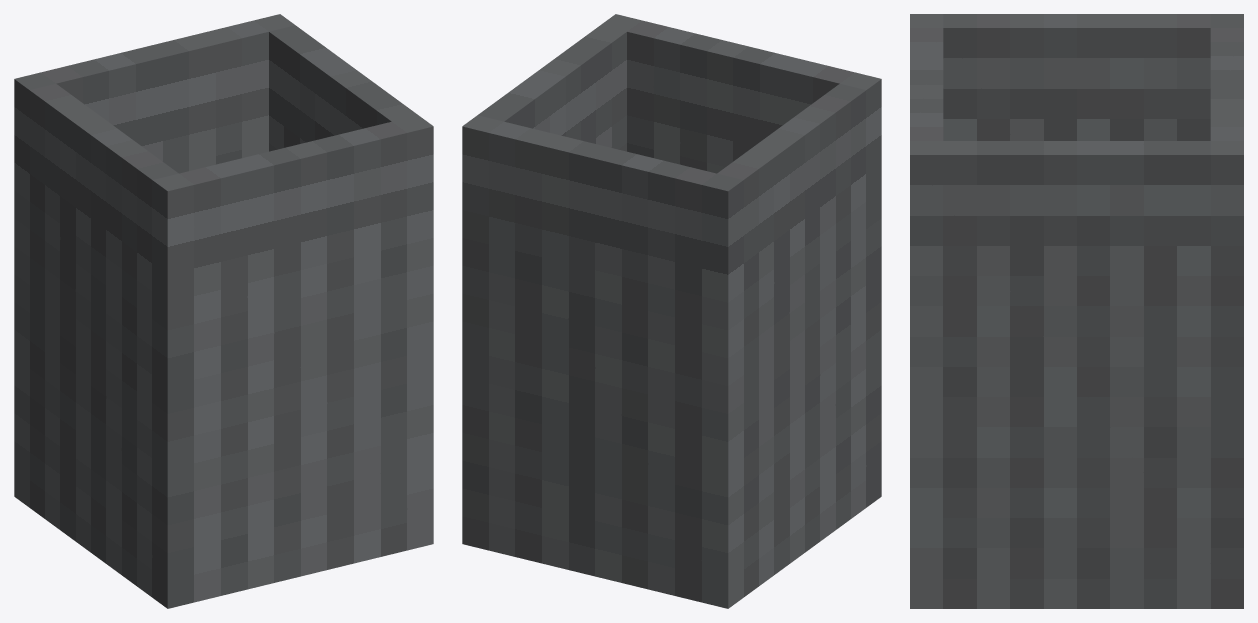
The model's file is Trashcan.dae.
3 views of the same model, side by side, from view 1: azimuth 30°, elevation 25°; view 2: azimuth 150°, elevation 25°; view 3: azimuth 270°, elevation 25° (orthographic). The views are drawn at different scales.
Visible parts, largest first — view 1: Trashcan; view 2: Trashcan; view 3: Trashcan.
Part boxes in pixels (x1=…): Trashcan: x1=14, y1=14, x2=433, y2=608; Trashcan: x1=462, y1=14, x2=881, y2=608; Trashcan: x1=910, y1=14, x2=1243, y2=608.
Size of the model in its own units: 10 by 15 by 10.
1 material, 1 textured.
